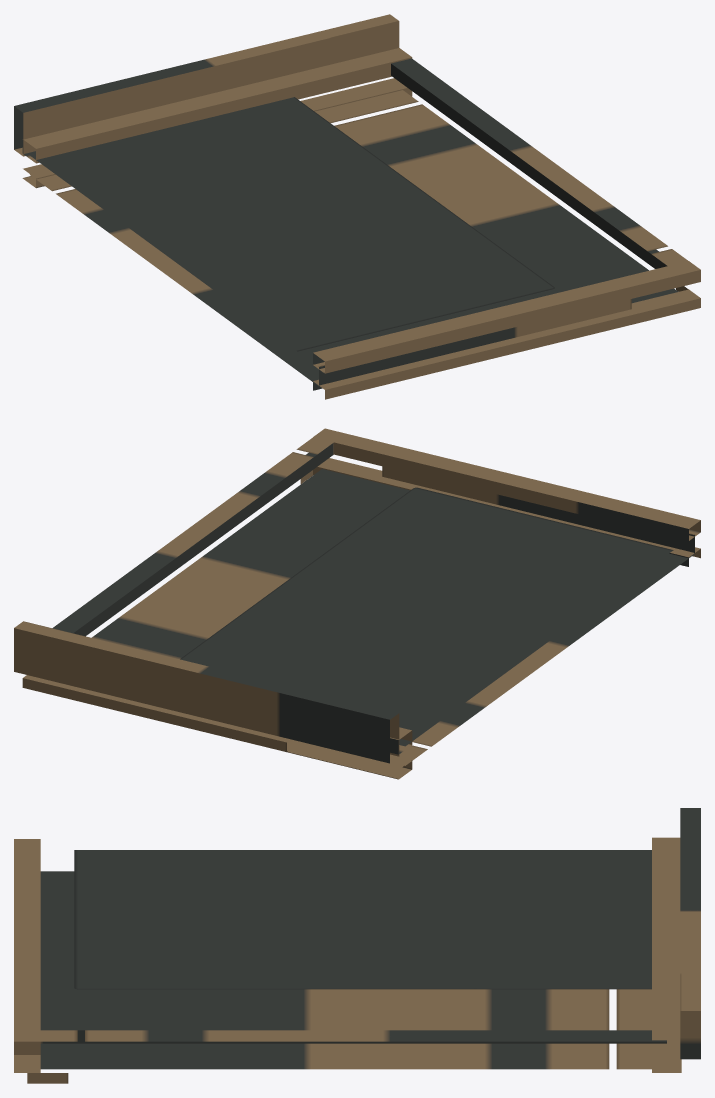
Rendered from section-5.obj.
3 renders of one model, top to bottom at view 1: azimuth 30°, elevation 25°; view 2: azimuth 150°, elevation 25°; view 3: azimuth 270°, elevation 25°, orthographic. The views are drawn at different scales.
Size of the model in its own units: 0.81 by 0.136 by 1.16.
